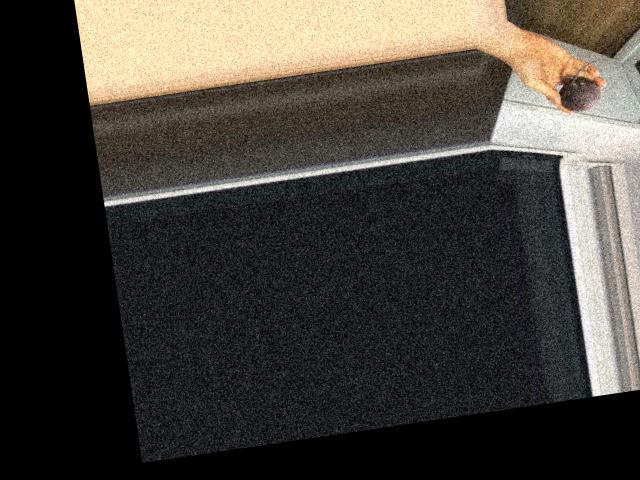beet: (555, 58, 607, 113)
